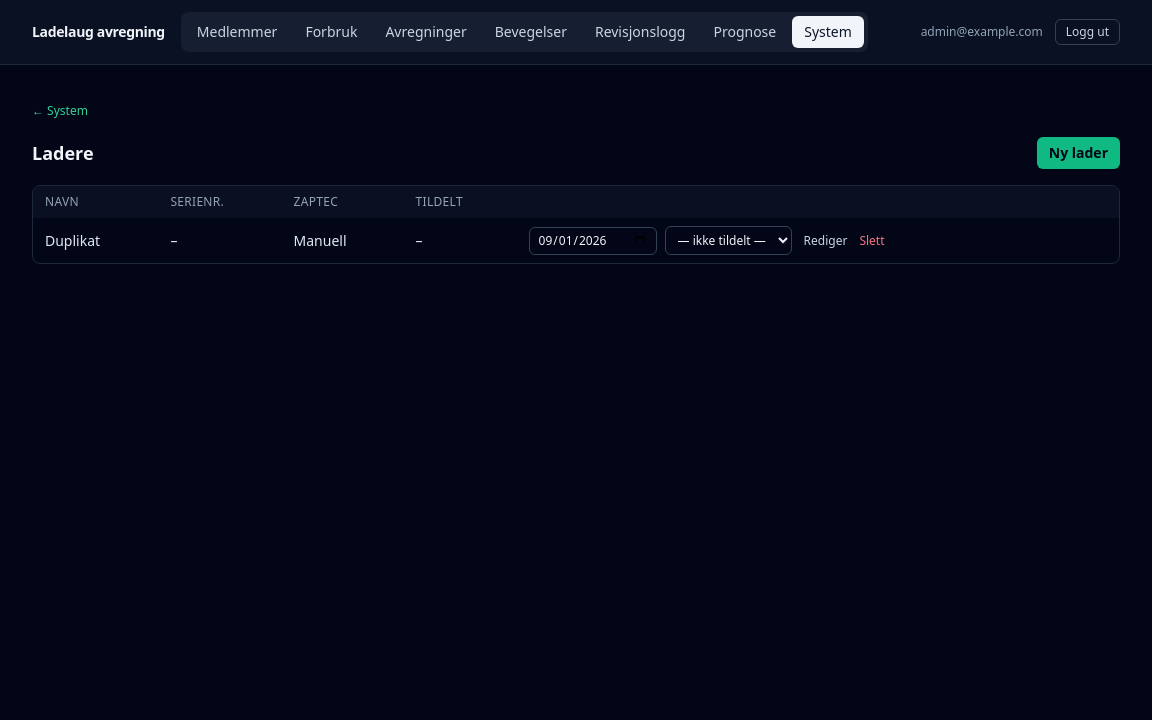
Chargers (admin) › deletes a manual charger
Click the button "Slett" at (872, 240), box [859,232,884,248]
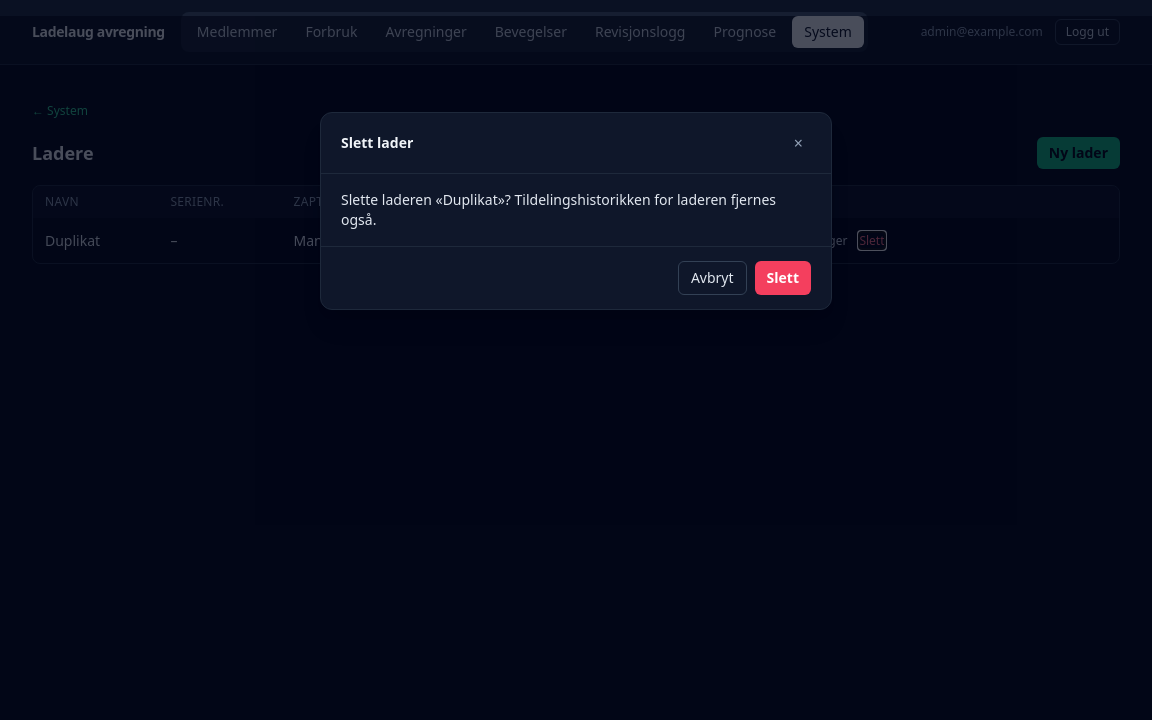
Click the button "Slett" at (783, 278), box [755,261,811,295]
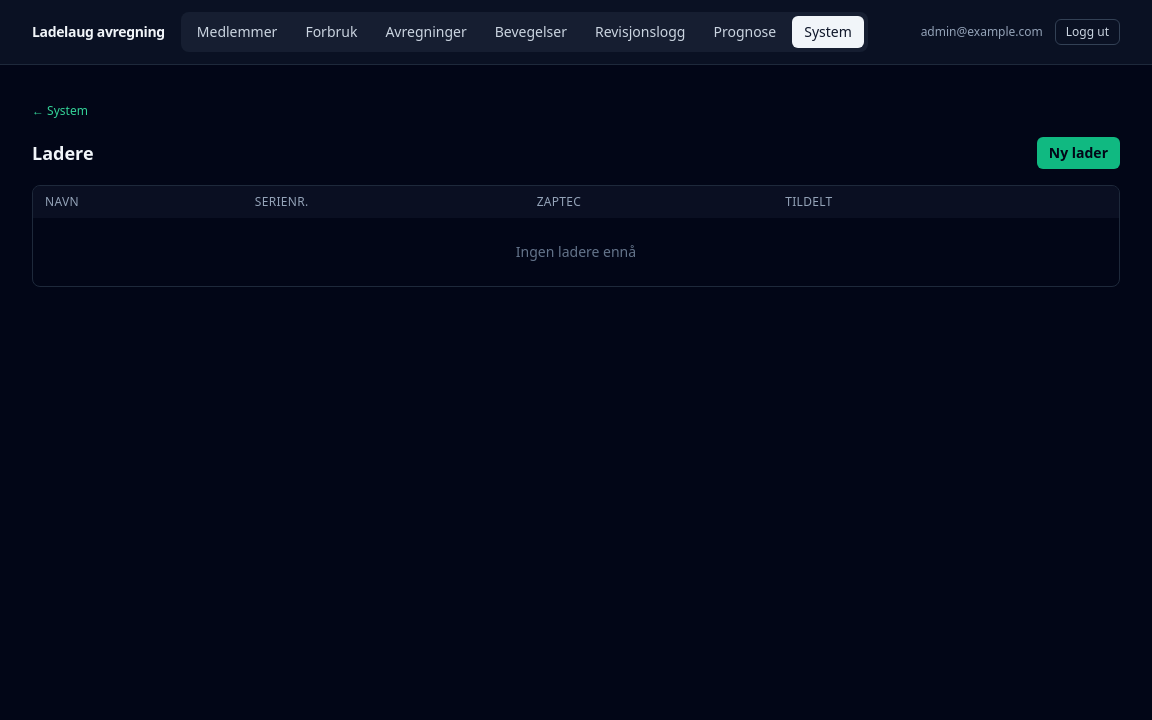
Check: the text "Ingen ladere ennå" is shown, box [33,218,1119,286]
